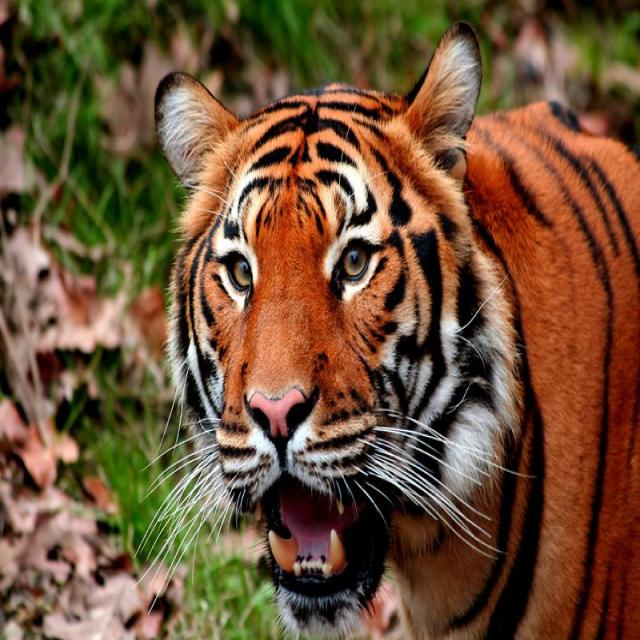Tiger: (155, 10, 637, 638)
